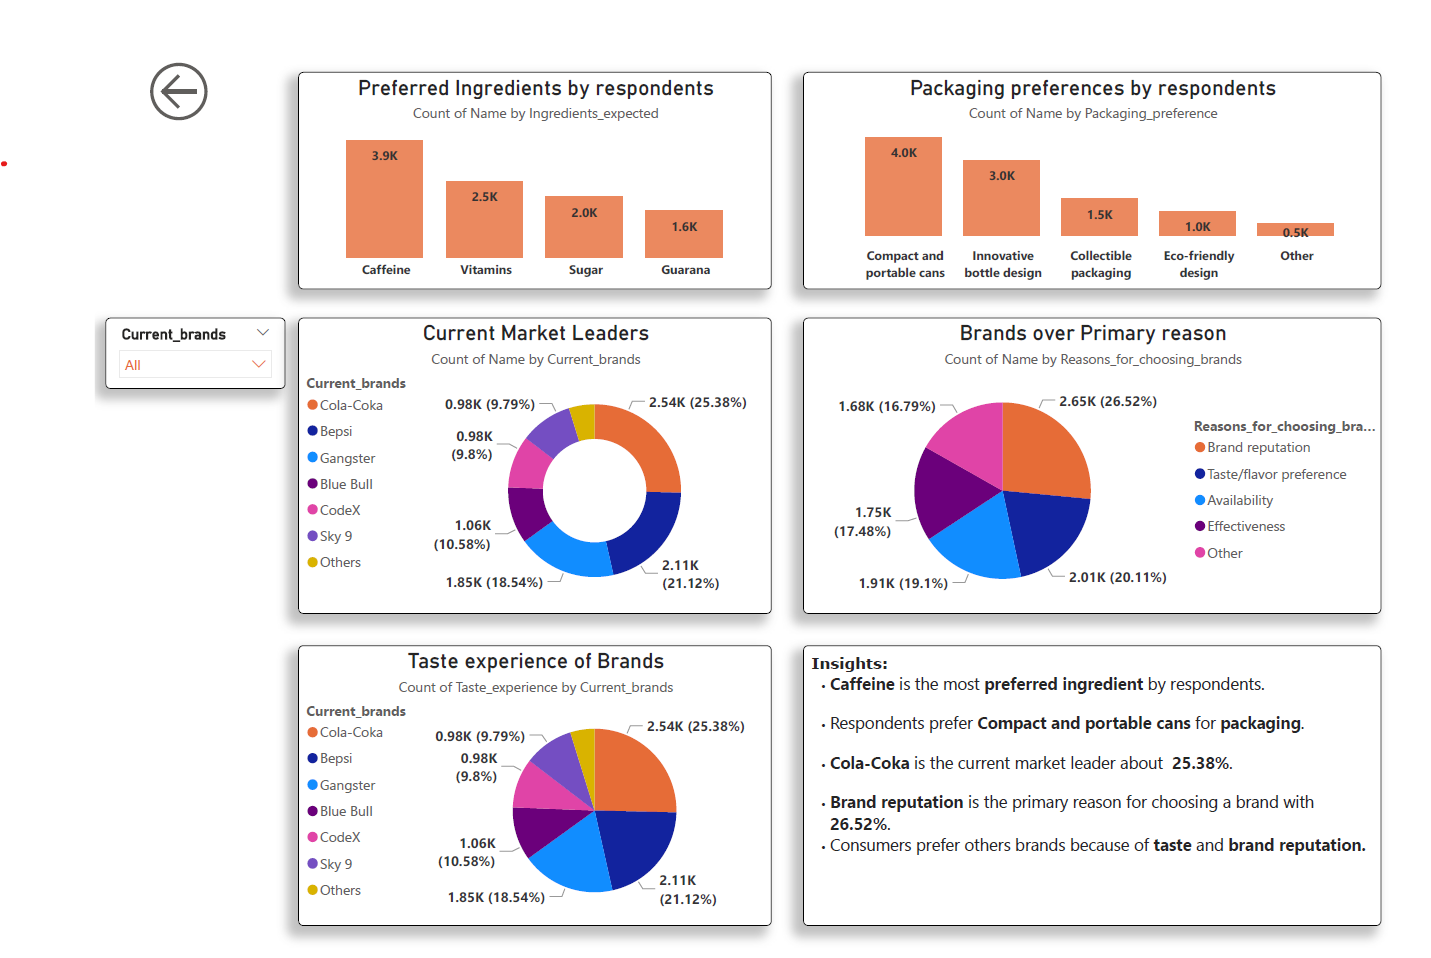

The page's visual inventory and layout, read from the dashboard file:
{"tool":"powerbi","page":{"name":"Consumer Preferences and Competition analysis","canvas":[1280,900],"ordinal":1},"visuals":[{"type":"columnChart","title":"Preferred Ingredients by respondents","fields":{"Category":["fact_survey_responses.Ingredients_expected"],"Y":["CountNonNull(dim_repondents.Name)"]},"box":[195.7,52.9,457.1,210],"z":0},{"type":"columnChart","title":"Packaging preferences by respondents","fields":{"Category":["fact_survey_responses.Packaging_preference"],"Y":["CountNonNull(dim_repondents.Name)"]},"box":[682.9,52.9,558.6,210],"z":1000},{"type":"donutChart","title":"Current Market Leaders","fields":{"Category":["fact_survey_responses.Current_brands"],"Y":["CountNonNull(dim_repondents.Name)"]},"box":[195.7,290,457.1,285.7],"z":2000},{"type":"pieChart","title":"Brands over Primary reason ","fields":{"Category":["fact_survey_responses.Reasons_for_choosing_brands"],"Y":["CountNonNull(dim_repondents.Name)"]},"box":[682.9,290,558.6,285.7],"z":3000},{"type":"textbox","box":[682.9,605.7,558.6,271.4],"z":4000},{"type":"pieChart","title":" Taste experience of Brands","fields":{"Category":["fact_survey_responses.Current_brands"],"Y":["CountNonNull(fact_survey_responses.Taste_experience)"]},"box":[195.7,605.7,457.1,271.4],"z":5000},{"type":"slicer","fields":{"Values":["fact_survey_responses.Current_brands"]},"box":[10,290,174.3,68.6],"z":6000},{"type":"actionButton","box":[45.7,37.1,117.1,70],"z":7000}]}

Visuals, with their boxes on the page's 1280x900 design canvas (x1, y1, x2, y2). These are canvas units, not pixel positions in the 1431x958 screenshot, which may show the page scaled, cropped or inside an application window:
"Preferred Ingredients by respondents" columnChart: Rect(196, 53, 653, 263)
"Packaging preferences by respondents" columnChart: Rect(683, 53, 1242, 263)
"Current Market Leaders" donutChart: Rect(196, 290, 653, 576)
"Brands over Primary reason " pieChart: Rect(683, 290, 1242, 576)
textbox: Rect(683, 606, 1242, 877)
" Taste experience of Brands" pieChart: Rect(196, 606, 653, 877)
slicer - fact_survey_responses.Current_brands: Rect(10, 290, 184, 359)
actionButton: Rect(46, 37, 163, 107)
